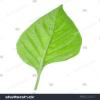Bell_pepper leaf: (15, 4, 83, 70)
